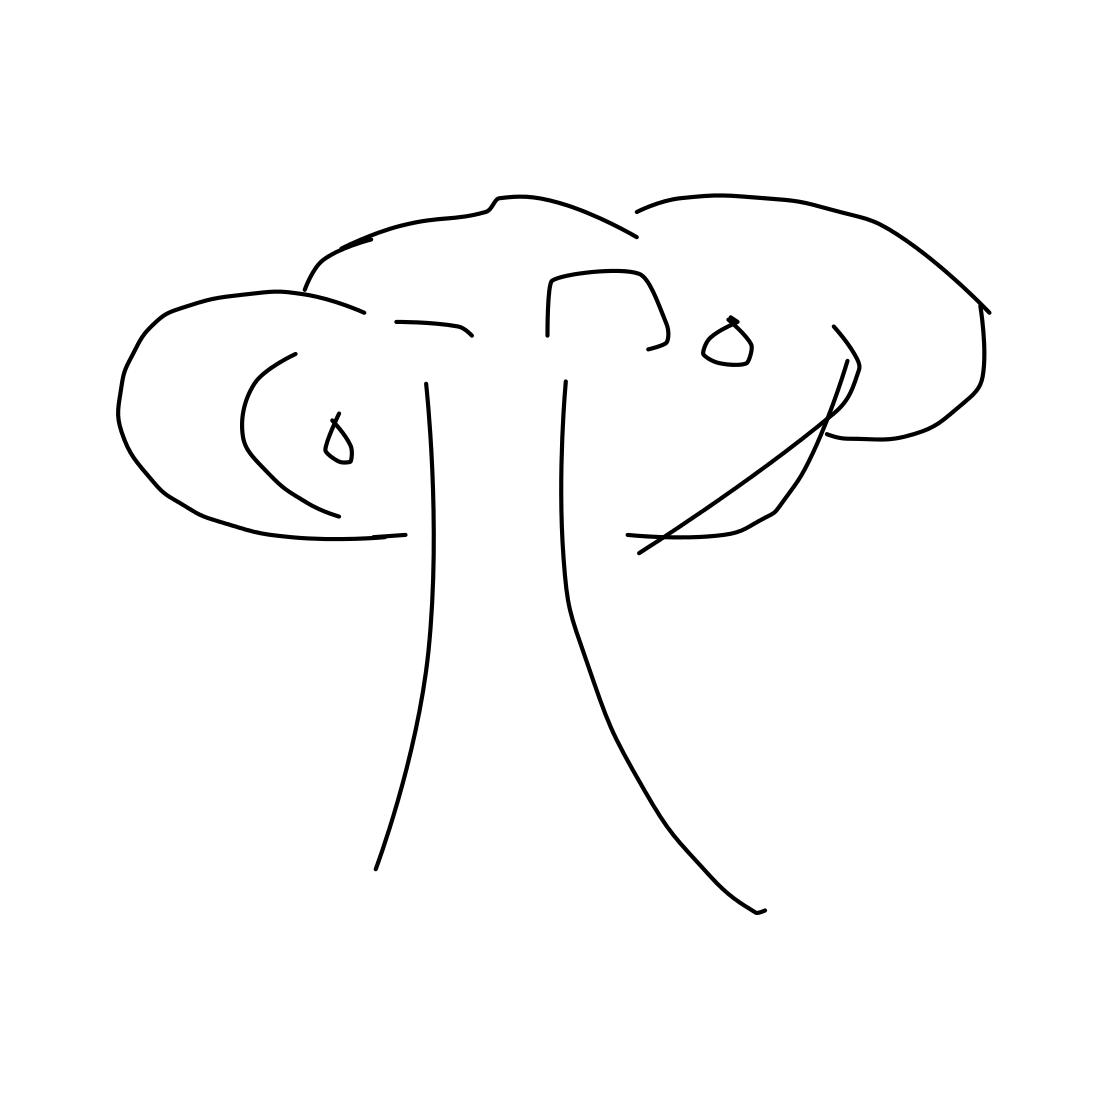Tree: (110, 141, 999, 929)
